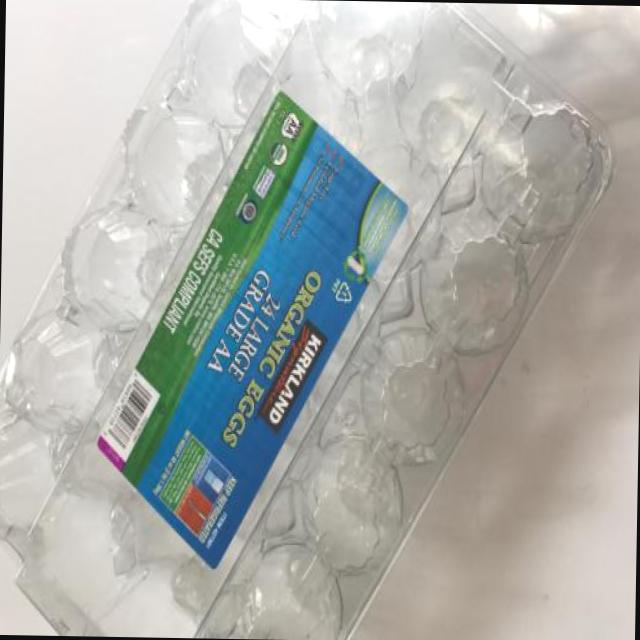Trash: (0, 2, 622, 640)
